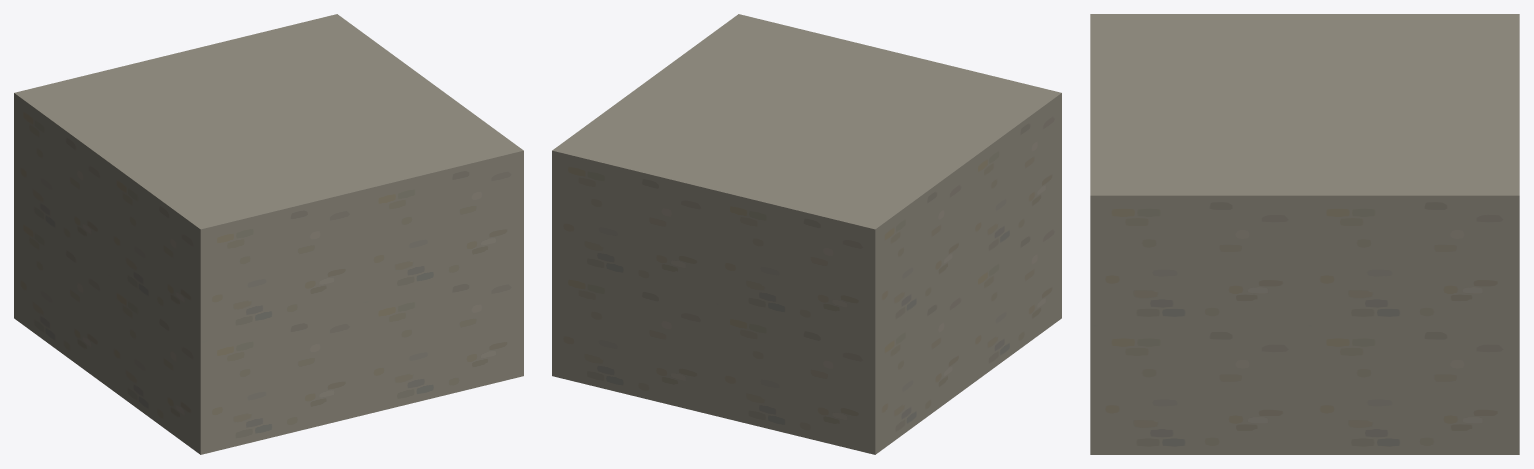
File: Block_A02.fbx
3 views of the same model, side by side, from view 1: azimuth 30°, elevation 25°; view 2: azimuth 150°, elevation 25°; view 3: azimuth 270°, elevation 25° (orthographic). The views are drawn at different scales.
Parts seen in each view (by area): view 1: Block_A02; view 2: Block_A02; view 3: Block_A02.
Boxes of the visible parts, box(x1,y1,x2,y2) form: Block_A02: box(14, 14, 523, 454); Block_A02: box(552, 14, 1061, 454); Block_A02: box(1090, 14, 1519, 454).
Size of the model in its own units: 600 by 400 by 600.
Materials: 1 (1 with a texture image).
